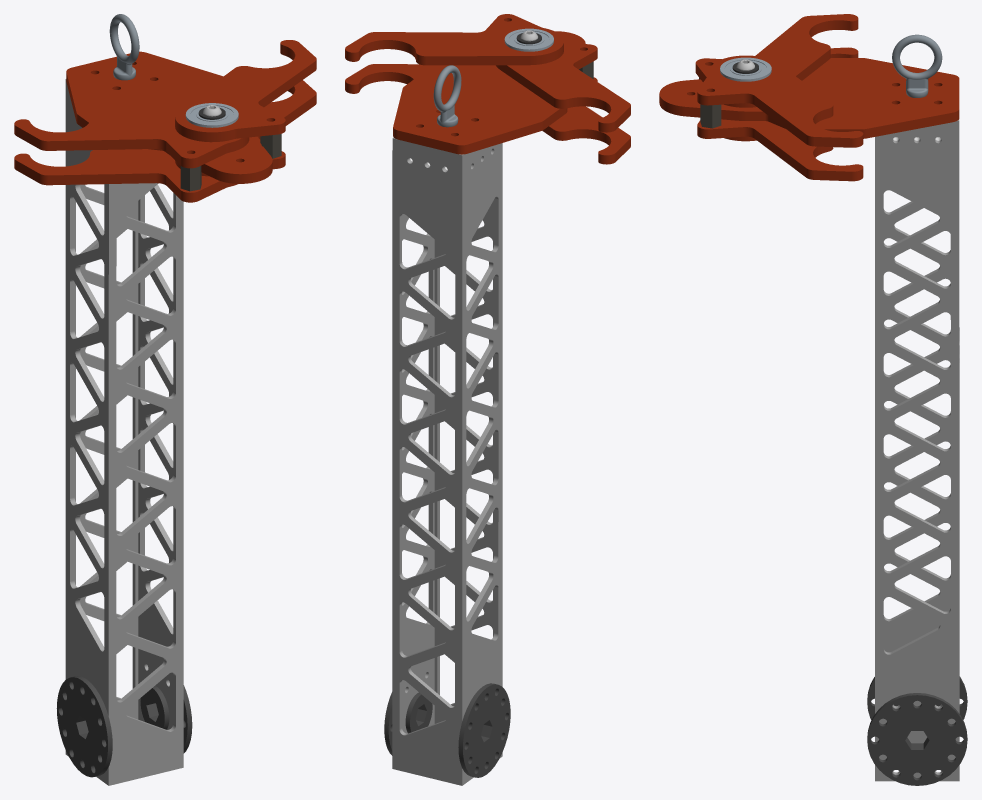
3 renders of one model, left to right at view 1: azimuth 30°, elevation 25°; view 2: azimuth 150°, elevation 25°; view 3: azimuth 270°, elevation 25°, orthographic. The views are drawn at different scales.
Visible parts, largest first — view 1: Rotating Tube, real finger (×4), Base (HOOK), Thrifty Thin Hex Hub (×2), 3014T45_Steel Eyebolt with Shoulder - for Lifting, .5" Hex ID 1.125" OD Flanged Bearing (217-2734); view 2: Rotating Tube, real finger (×4), Base (HOOK), Thrifty Thin Hex Hub (×2), 3014T45_Steel Eyebolt with Shoulder - for Lifting, .5" Hex ID 1.125" OD Flanged Bearing (217-2734); view 3: Rotating Tube, real finger (×3), Base (HOOK), Thrifty Thin Hex Hub (×2), 3014T45_Steel Eyebolt with Shoulder - for Lifting, .5" Hex ID 1.125" OD Flanged Bearing (217-2734).
Part boxes in pixels (x1,y1,x2,y2): Rotating Tube: (65, 79, 183, 785); real finger (×4): (14, 40, 316, 202); Base (HOOK): (66, 51, 272, 183); Thrifty Thin Hex Hub (×2): (56, 676, 192, 777); 3014T45_Steel Eyebolt with Shoulder - for Lifting: (109, 14, 139, 80); .5" Hex ID 1.125" OD Flanged Bearing (217-2734): (185, 103, 238, 127); Rotating Tube: (392, 137, 502, 785); real finger (×4): (345, 14, 630, 164); Base (HOOK): (393, 31, 585, 154); Thrifty Thin Hex Hub (×2): (384, 683, 510, 777); 3014T45_Steel Eyebolt with Shoulder - for Lifting: (433, 65, 461, 127); .5" Hex ID 1.125" OD Flanged Bearing (217-2734): (504, 28, 553, 51); Rotating Tube: (875, 119, 959, 781); real finger (×3): (695, 14, 863, 181); Base (HOOK): (659, 58, 959, 138); Thrifty Thin Hex Hub (×2): (867, 676, 967, 785); 3014T45_Steel Eyebolt with Shoulder - for Lifting: (892, 34, 942, 97); .5" Hex ID 1.125" OD Flanged Bearing (217-2734): (720, 57, 771, 81).
Bounding box in the file's own units: 0.1938 × 0.4849 × 0.1853.
